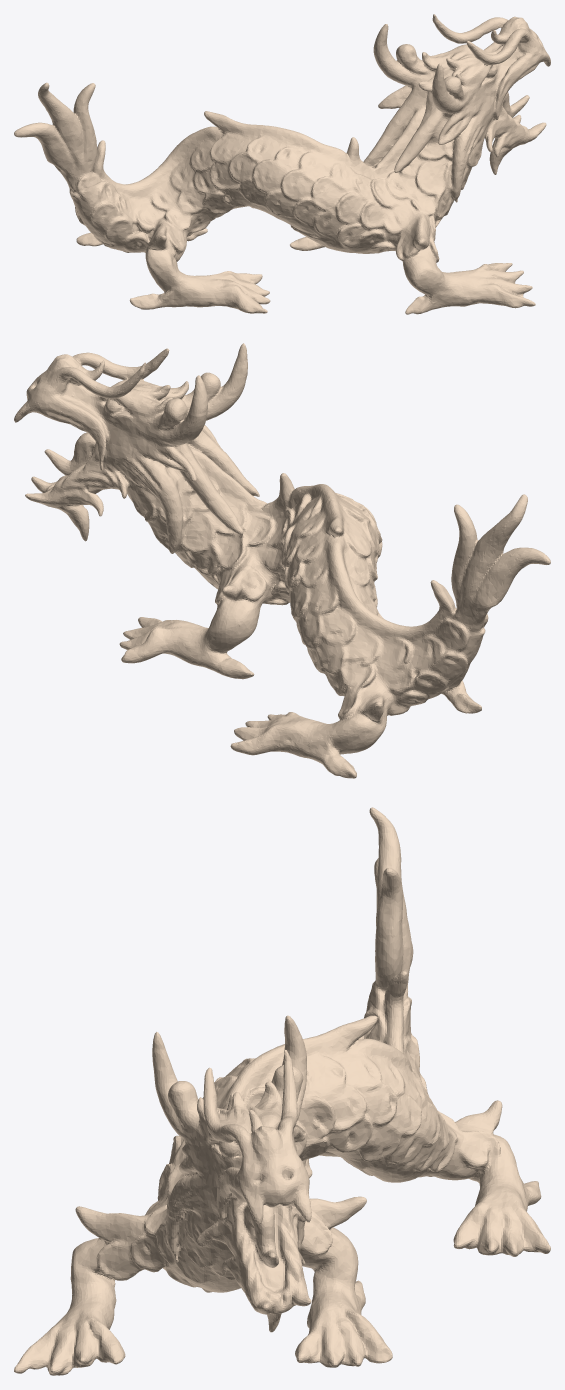
File: dragon_sasnet.glb
The picture shows the model from 3 angles, top to bottom: view 1: azimuth 30°, elevation 25°; view 2: azimuth 150°, elevation 25°; view 3: azimuth 270°, elevation 25°; orthographic projection. The views are drawn at different scales.
Parts seen in each view (by area): view 1: world; view 2: world; view 3: world.
Boxes of the visible parts, x1,y1,x2,y2 form: world: (14, 14, 550, 314); world: (14, 343, 550, 778); world: (14, 807, 550, 1375).
Size of the model in its own units: 1 by 0.4485 by 0.6645.
